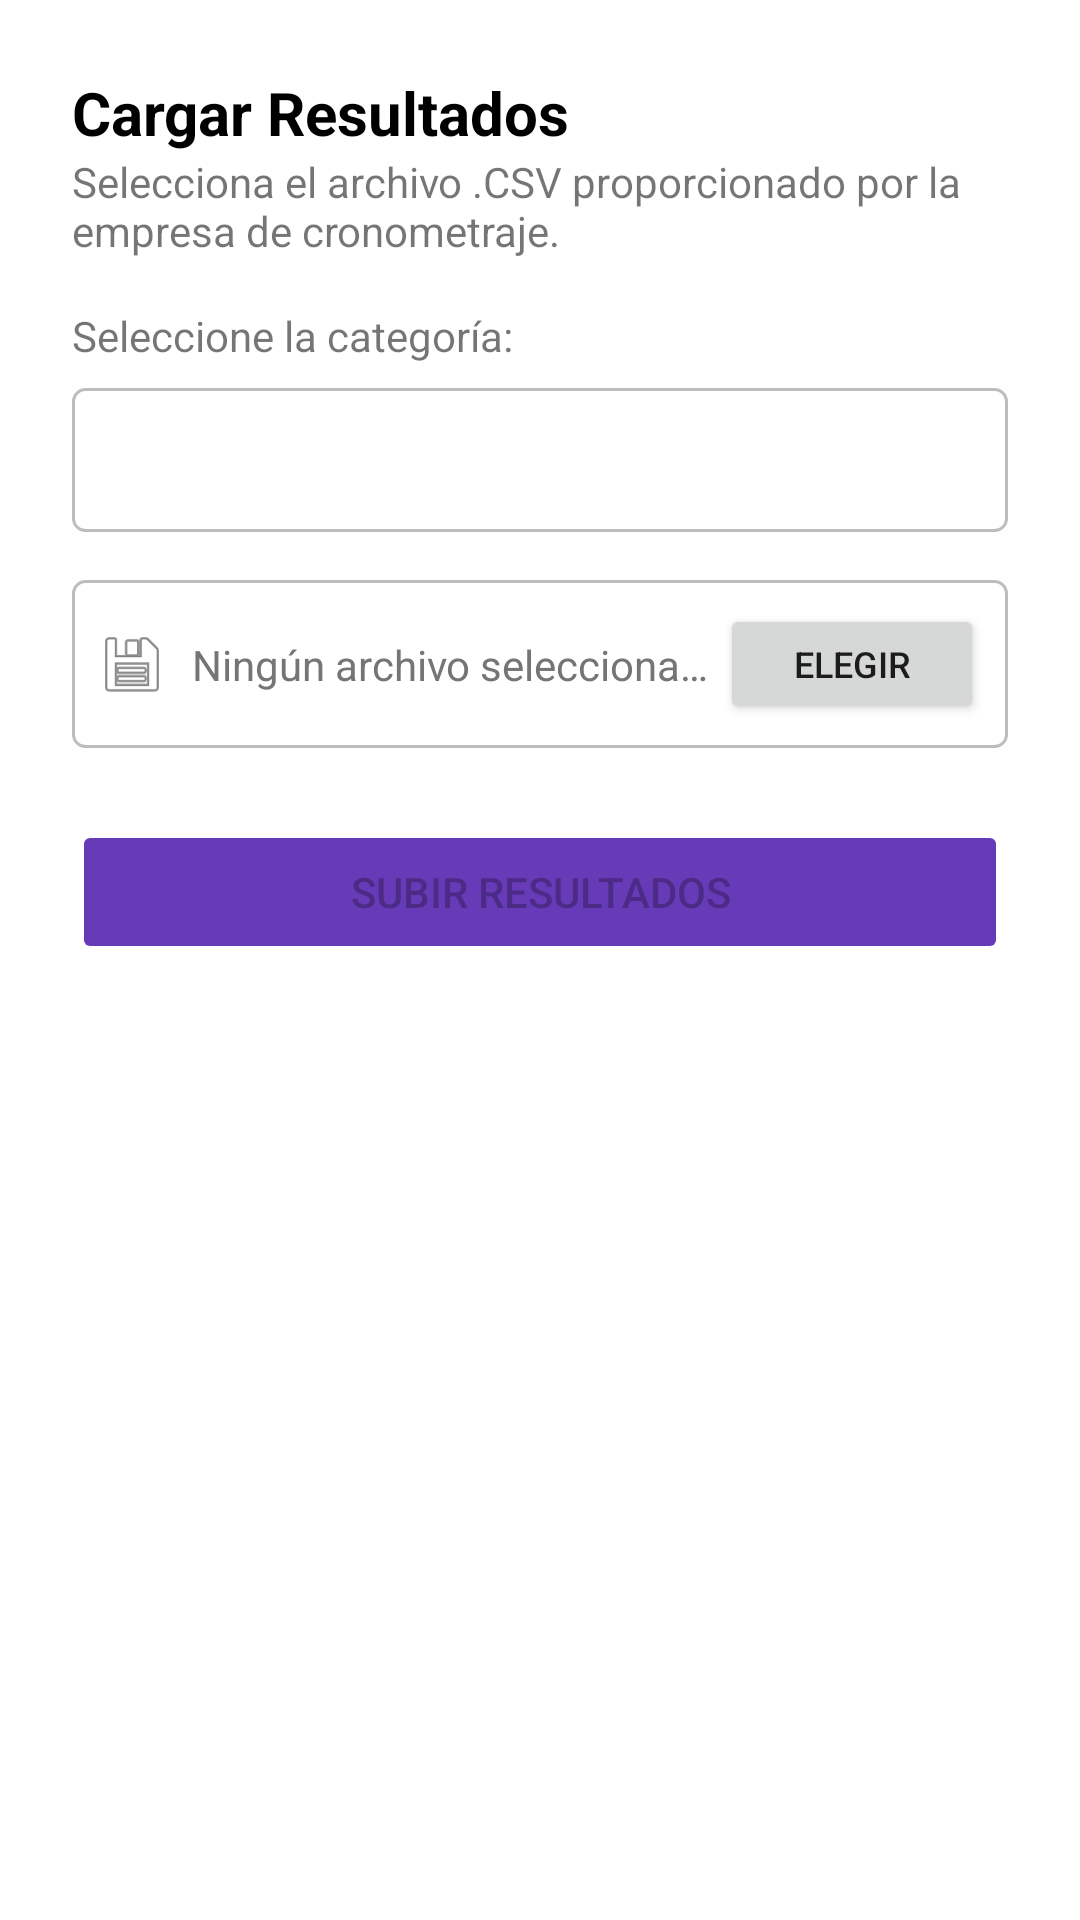

Where to tap for icons on this 1080px x 1920px app screen, as point (x, y):
save: point (132, 664)
